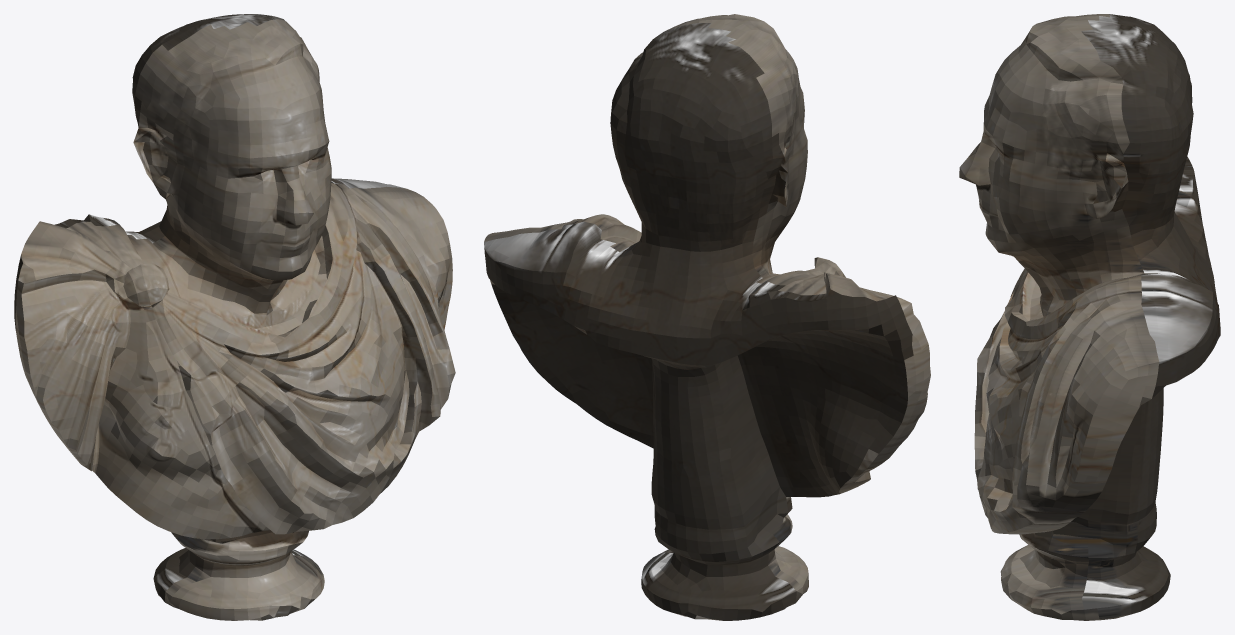
Rendered from bibi-lo.glb.
3 renders of one model, left to right at view 1: azimuth 30°, elevation 25°; view 2: azimuth 150°, elevation 25°; view 3: azimuth 270°, elevation 25°, orthographic.
Parts seen in each view (by area): view 1: beebee; view 2: beebee; view 3: beebee.
Boxes of the visible parts, x1,y1,x2,y2 form: beebee: (14,14,455,620); beebee: (484,14,930,620); beebee: (959,14,1220,620).
Size of the model in its own units: 4.07 by 5.14 by 2.15.
1 material, 1 textured.
